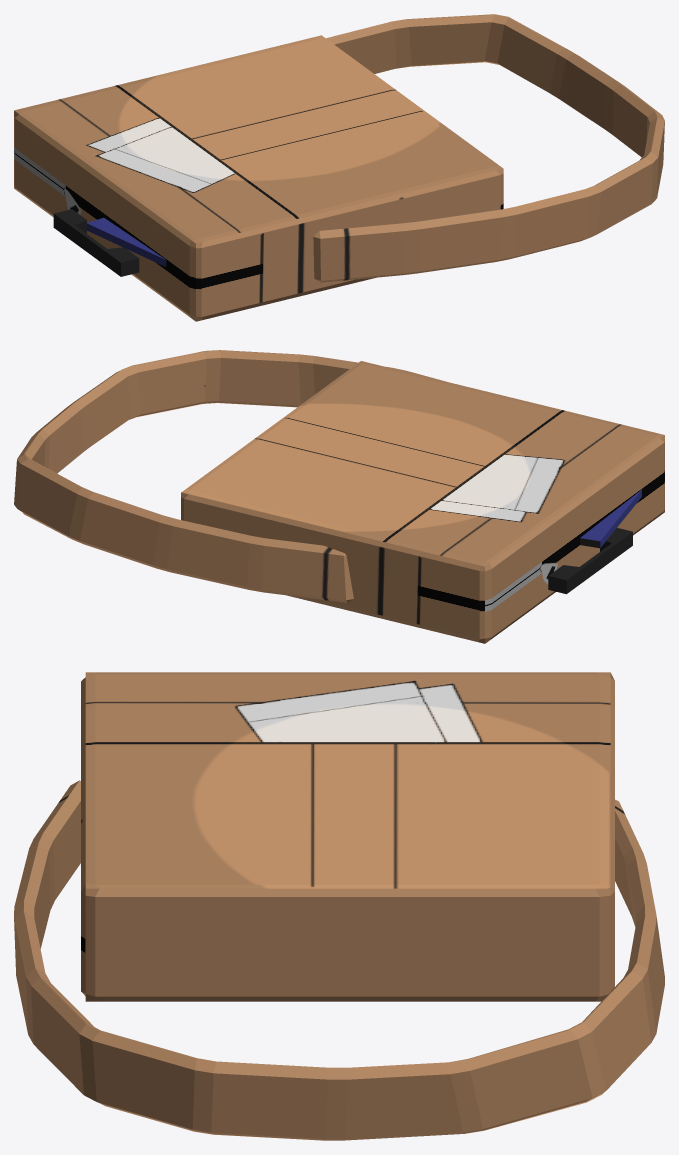
File: Elm Bag.fbx
3 views of the same model, one above another, from view 1: azimuth 30°, elevation 25°; view 2: azimuth 150°, elevation 25°; view 3: azimuth 270°, elevation 25° (orthographic). The views are drawn at different scales.
Parts seen in each view (by area): view 1: Cube_001, Cube_002, Cube; view 2: Cube_001, Cube_002, Cube; view 3: Cube_001.
Part boxes in pixels (x1,y1,x2,y2): Cube_001: [14, 14, 664, 321]; Cube_002: [53, 209, 139, 276]; Cube: [86, 217, 166, 267]; Cube_001: [14, 350, 664, 643]; Cube_002: [548, 528, 632, 594]; Cube: [580, 490, 641, 548]; Cube_001: [14, 672, 664, 1140].
Bounding box in the file's own units: 1.51 × 0.2136 × 1.1.
